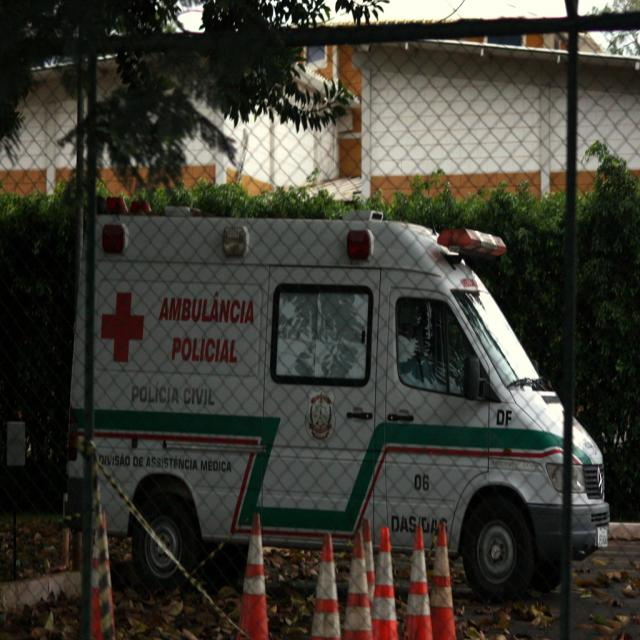Ambulance: (69, 208, 613, 604)
